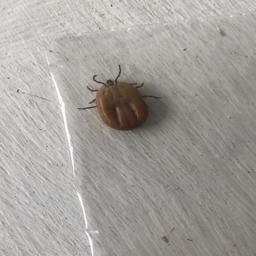Dermacentor variabilis: (76, 66, 162, 133)
